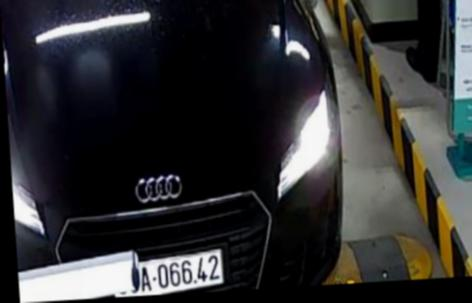License_Plate: (137, 253, 230, 292)
